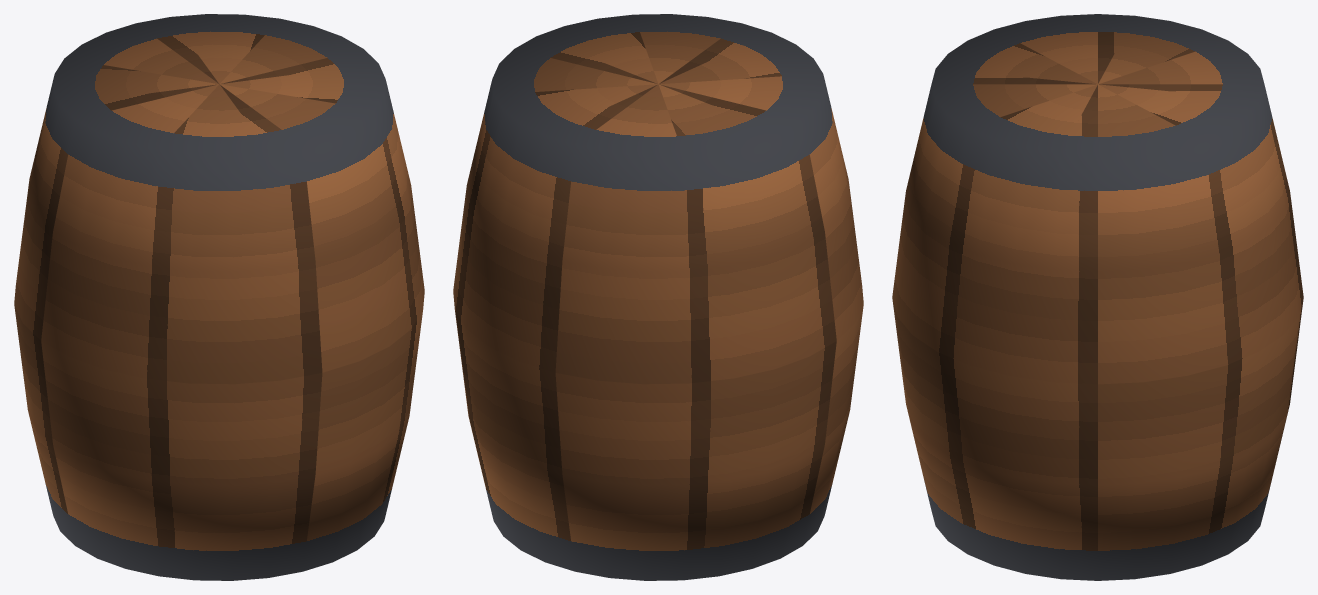
File: barrel.glb
3 renders of one model, left to right at view 1: azimuth 30°, elevation 25°; view 2: azimuth 150°, elevation 25°; view 3: azimuth 270°, elevation 25°, orthographic.
Visible parts, largest first — view 1: Barrel; view 2: Barrel; view 3: Barrel.
Part boxes in pixels (<box>): Barrel: <box>14,14,424,580</box>; Barrel: <box>453,14,863,580</box>; Barrel: <box>892,14,1303,580</box>.
Bounding box in the file's own units: 2.1 × 2.4 × 2.1.
Materials: 1 (1 with a texture image).
